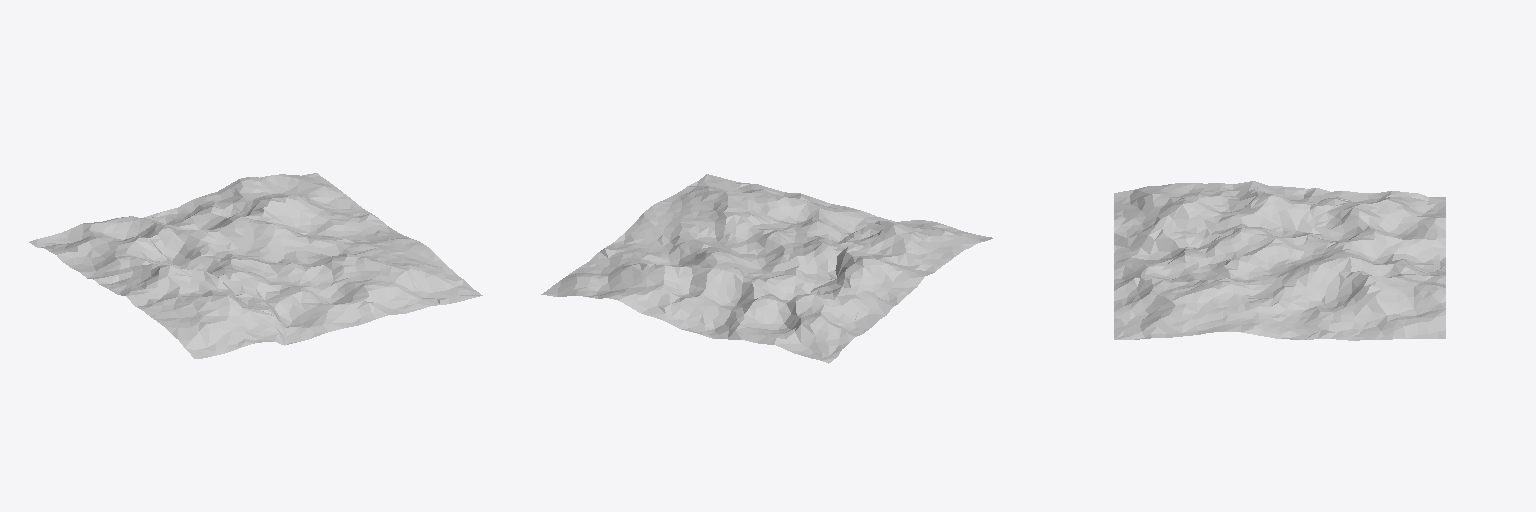
File: earthTerrainUpdated.obj
3 views of the same model, side by side, from view 1: azimuth 30°, elevation 25°; view 2: azimuth 150°, elevation 25°; view 3: azimuth 270°, elevation 25° (orthographic).
Parts seen in each view (by area): view 1: earthTerrain; view 2: earthTerrain; view 3: earthTerrain.
Part boxes in pixels (left/top/right/bottom): earthTerrain: left=29, top=173, right=482, bottom=358; earthTerrain: left=541, top=174, right=992, bottom=363; earthTerrain: left=1114, top=181, right=1445, bottom=340.
Size of the model in its own units: 120 by 12.9 by 120.